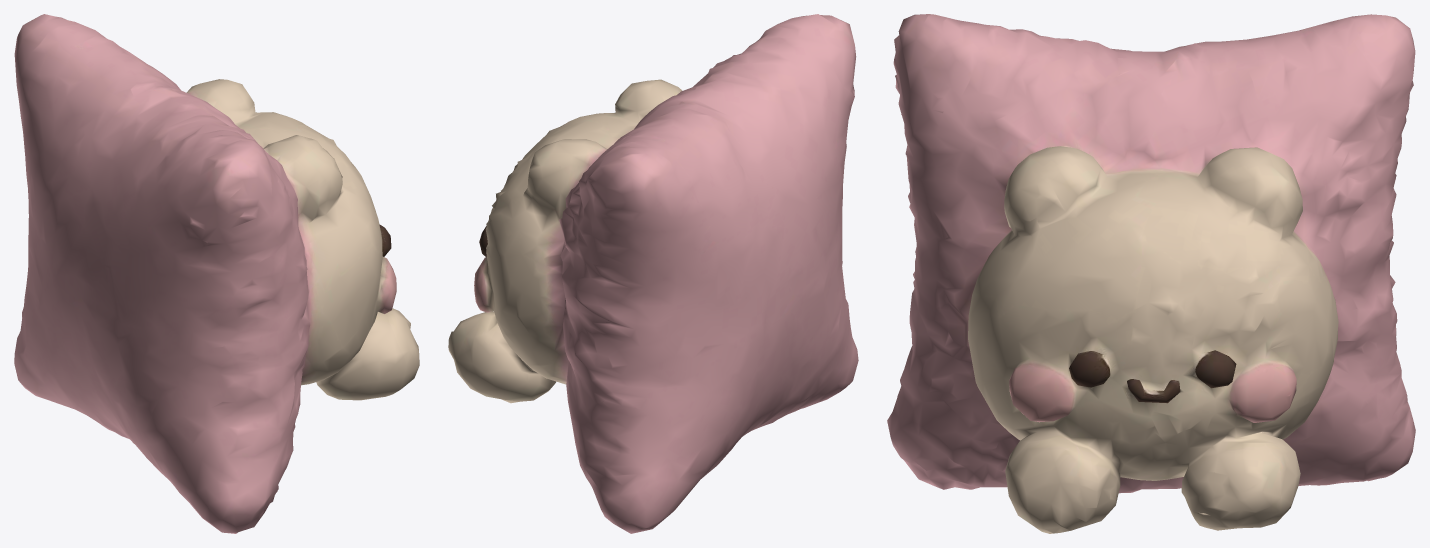
File: pillow.glb
3 views of the same model, side by side, from view 1: azimuth 30°, elevation 25°; view 2: azimuth 150°, elevation 25°; view 3: azimuth 270°, elevation 25° (orthographic). The views are drawn at different scales.
Visible parts, largest first — view 1: tripo_node_46481c8b-737b-4874-8c02-e6536b34a7f2; view 2: tripo_node_46481c8b-737b-4874-8c02-e6536b34a7f2; view 3: tripo_node_46481c8b-737b-4874-8c02-e6536b34a7f2.
Part boxes in pixels (box(x1,y1,x2,y2)): tripo_node_46481c8b-737b-4874-8c02-e6536b34a7f2: box(14, 14, 419, 533); tripo_node_46481c8b-737b-4874-8c02-e6536b34a7f2: box(448, 14, 858, 533); tripo_node_46481c8b-737b-4874-8c02-e6536b34a7f2: box(887, 14, 1415, 533).
Size of the model in its own units: 0.7933 by 0.9591 by 1.
Materials: 1 (1 with a texture image).
